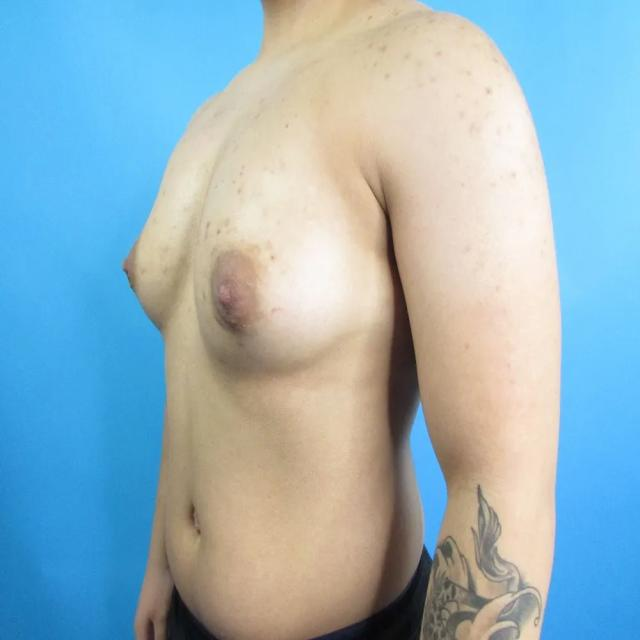Seno ileso: (194, 150, 393, 400), (113, 140, 193, 346)
